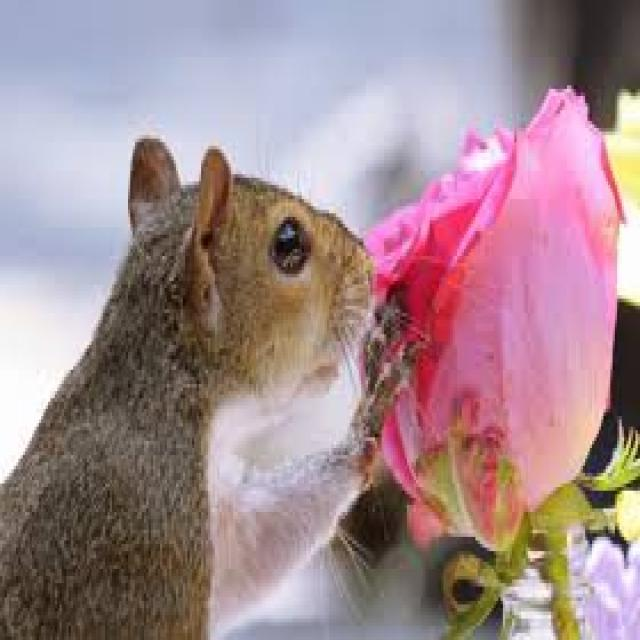Squirrel: (0, 131, 389, 640)
